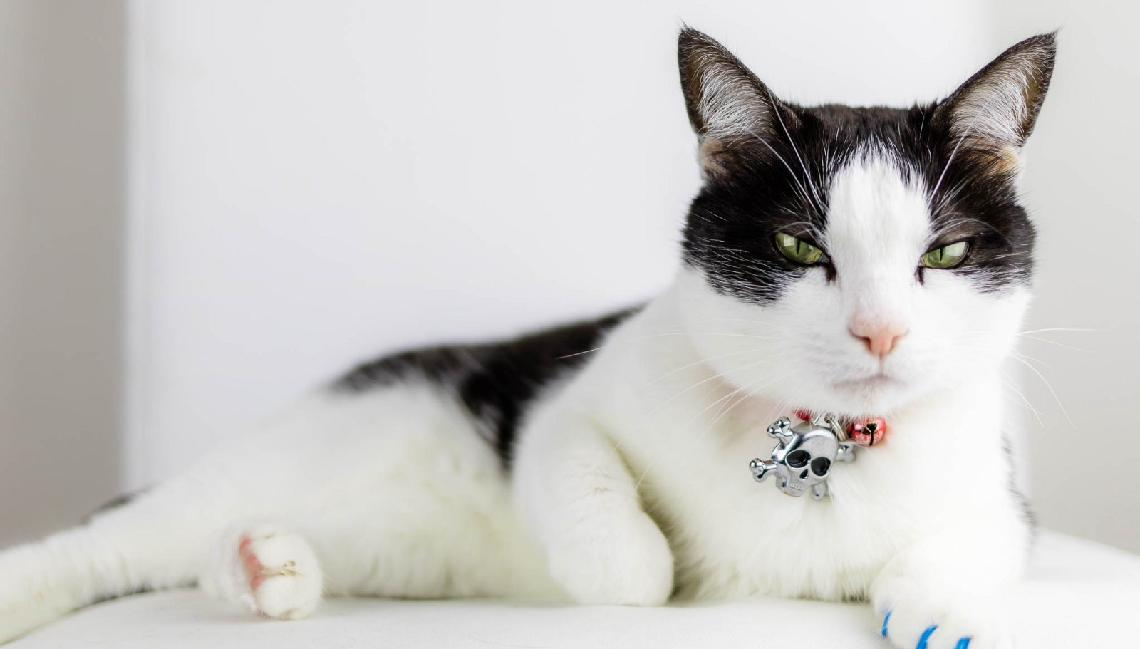Cat: (1, 18, 1081, 649)
